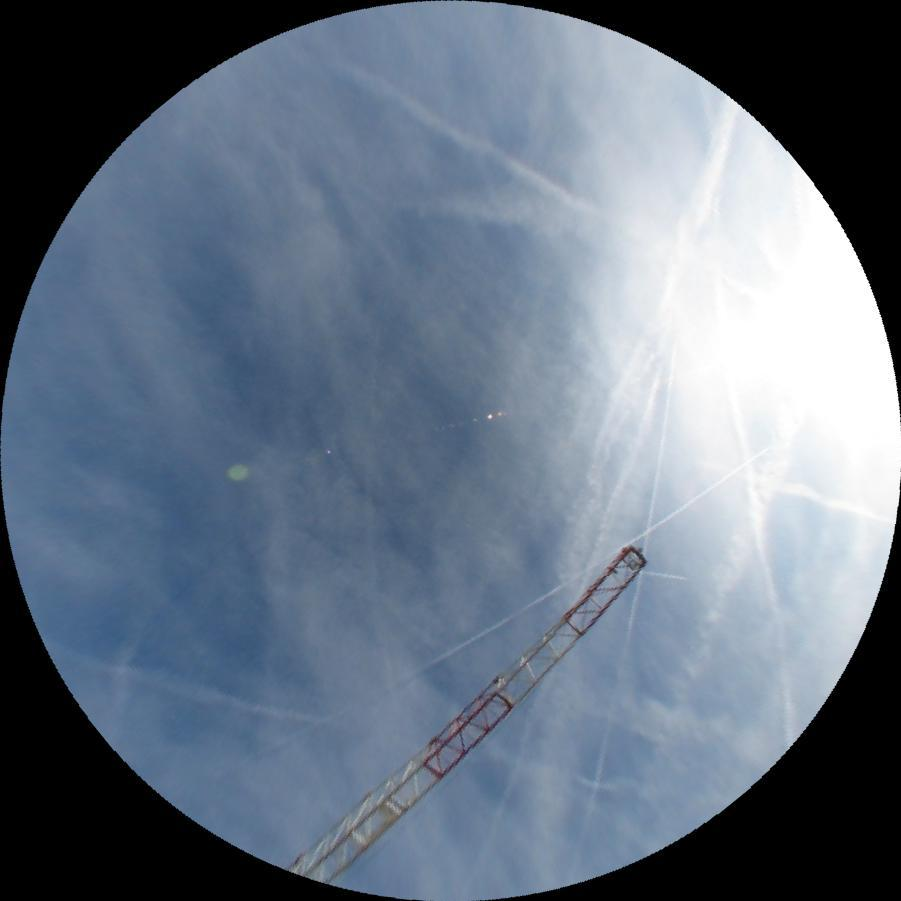contrail veryold: (455, 364, 707, 901), (327, 50, 757, 308), (536, 92, 753, 590), (632, 419, 802, 807), (697, 194, 802, 750), (34, 632, 341, 742), (357, 164, 633, 258), (686, 79, 784, 276), (670, 444, 897, 525), (358, 323, 397, 700)
contrail young: (244, 445, 779, 773), (565, 337, 691, 887), (636, 567, 687, 582)
